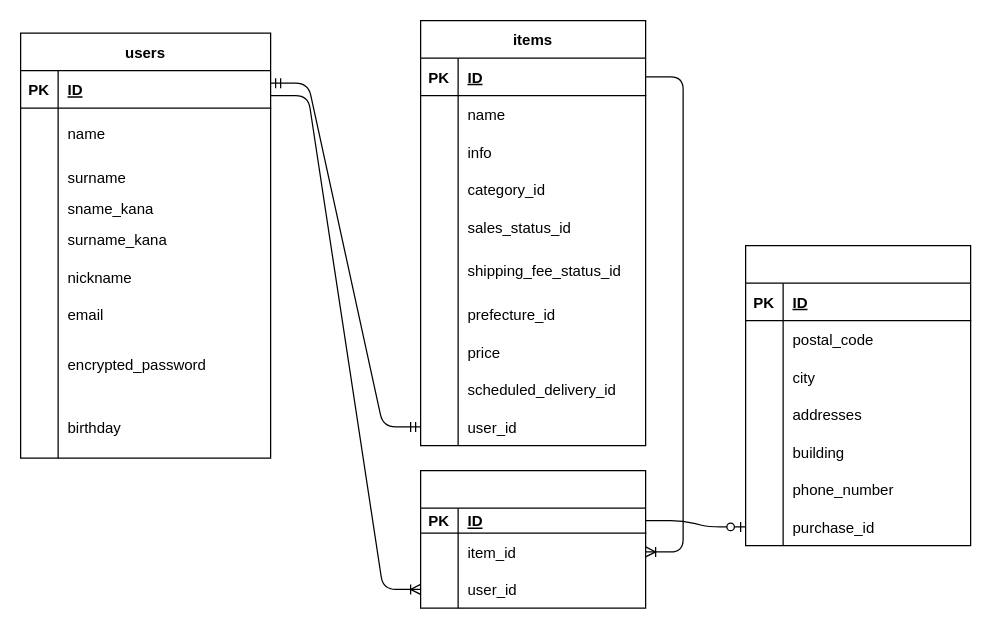
This 991x629 diagram has some shape labels left out. Each missing label, with the box of its shape:
purchases: (419, 469, 646, 608)
shipping_addresses: (744, 244, 971, 546)
